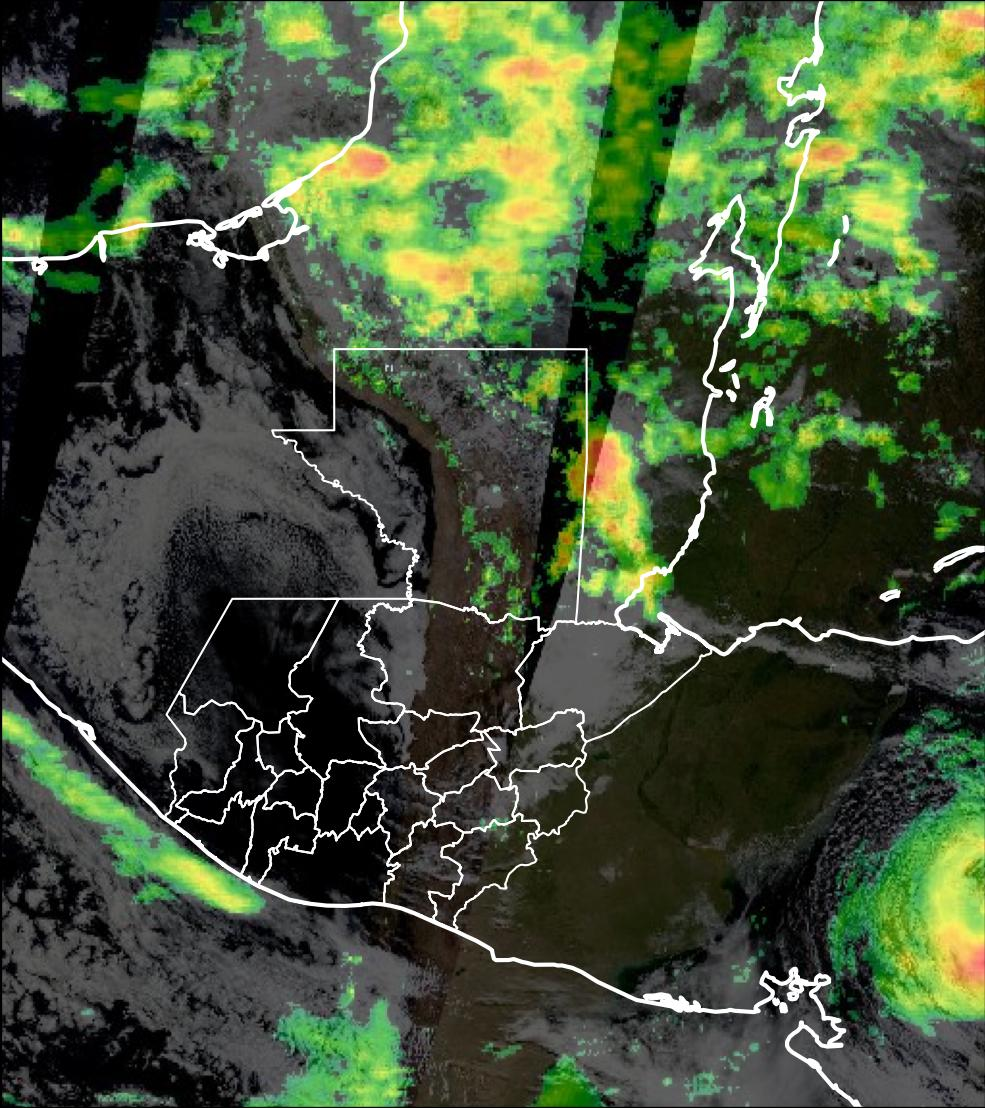precipitacion: (565, 422, 644, 506), (317, 142, 402, 194), (933, 929, 985, 1000)
